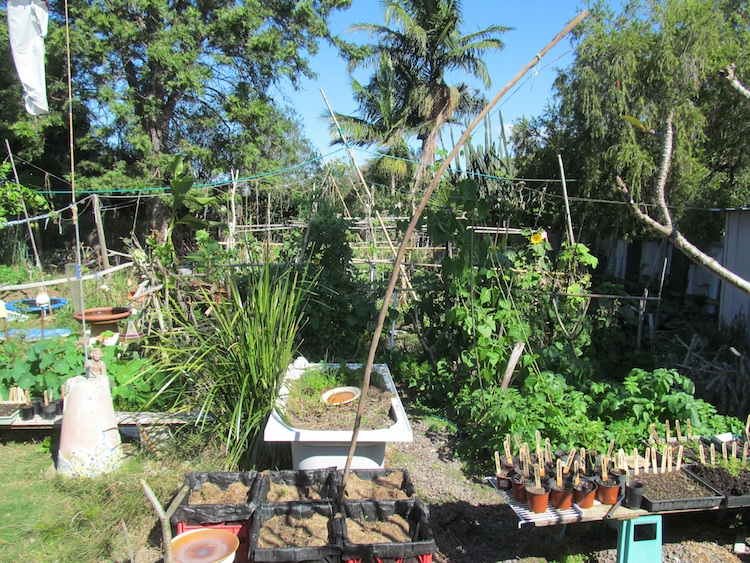birdbath: (71, 305, 137, 330)
container: (165, 525, 240, 563), (71, 303, 135, 329), (322, 383, 363, 408), (547, 479, 578, 512), (522, 480, 551, 514), (596, 469, 622, 506), (574, 477, 599, 512), (495, 461, 517, 498)
pot: (548, 480, 584, 512), (522, 479, 551, 515), (596, 473, 625, 507), (494, 466, 518, 493), (574, 477, 597, 505)
vegetation: (486, 368, 699, 443)
